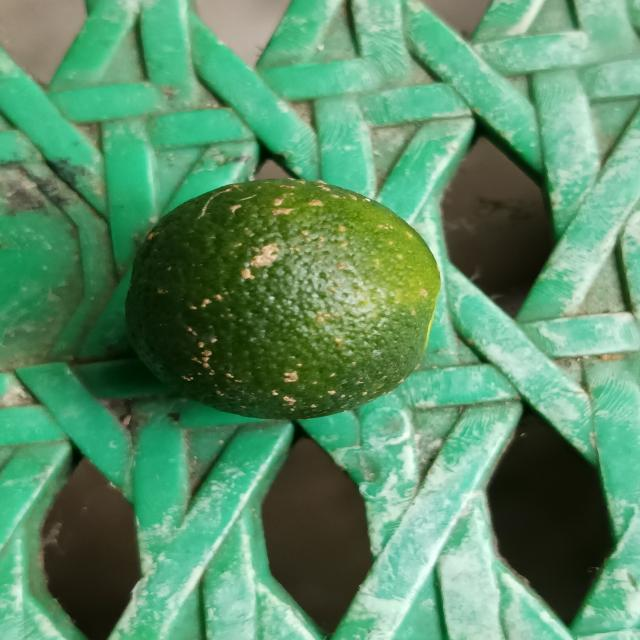scab: (120, 169, 450, 429)
